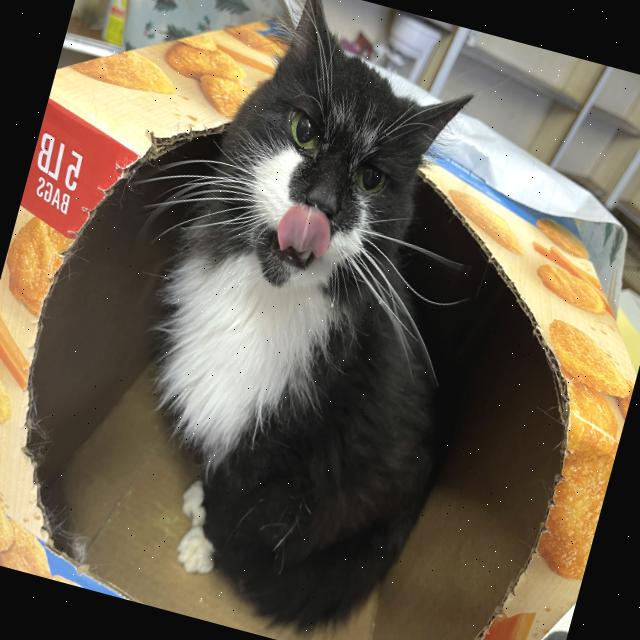maine_coon_cat: (147, 0, 499, 375)
